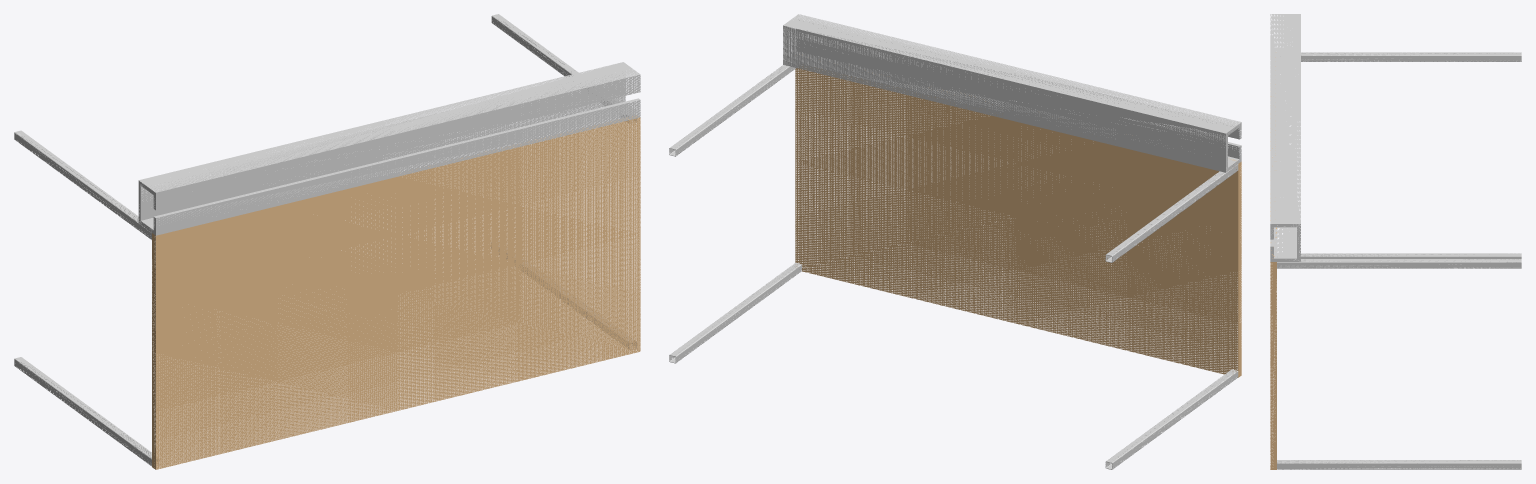
The model's file is desk.gltf.
3 renders of one model, left to right at view 1: azimuth 30°, elevation 25°; view 2: azimuth 150°, elevation 25°; view 3: azimuth 270°, elevation 25°, orthographic. The views are drawn at different scales.
Parts seen in each view (by area): view 1: desk.TableTop, desk.Tray, desk.Leg4, desk.Leg3, desk.Leg1; view 2: desk.TableTop, desk.Tray, desk.Leg4, desk.Leg2, desk.Leg3, desk.Leg1; view 3: desk.Tray, desk.Leg2, desk.Leg1, desk.Leg3, desk.TableTop, desk.Leg4.
Part boxes in pixels (x1=…): desk.TableTop: x1=152, y1=115, x2=640, y2=469; desk.Tray: x1=138, y1=62, x2=640, y2=235; desk.Leg4: x1=14, y1=357, x2=157, y2=466; desk.Leg3: x1=14, y1=130, x2=151, y2=239; desk.Leg1: x1=491, y1=14, x2=636, y2=123; desk.TableTop: x1=795, y1=66, x2=1241, y2=377; desk.Tray: x1=783, y1=14, x2=1241, y2=172; desk.Leg4: x1=1105, y1=369, x2=1238, y2=469; desk.Leg2: x1=669, y1=263, x2=801, y2=363; desk.Leg3: x1=1105, y1=164, x2=1238, y2=262; desk.Leg1: x1=669, y1=61, x2=799, y2=156; desk.Tray: x1=1270, y1=14, x2=1300, y2=261; desk.Leg2: x1=1277, y1=460, x2=1521, y2=469; desk.Leg1: x1=1277, y1=259, x2=1521, y2=268; desk.Leg3: x1=1301, y1=52, x2=1521, y2=61; desk.TableTop: x1=1270, y1=57, x2=1276, y2=469; desk.Leg4: x1=1277, y1=253, x2=1521, y2=259.
Size of the model in its own units: 0.065 by 0.0355 by 0.0329.
